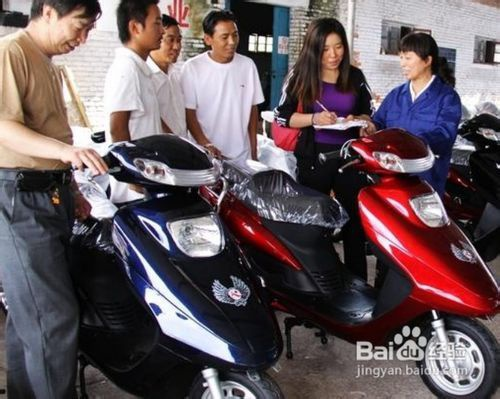non-vehicle: (215, 127, 500, 399), (38, 133, 282, 394)
